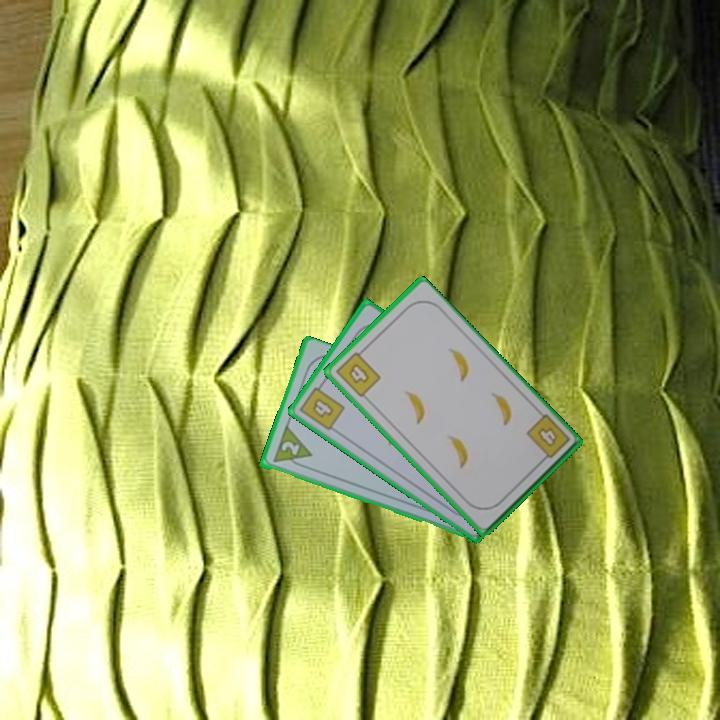2p: (269, 424, 314, 472)
4b: (296, 378, 348, 433), (332, 345, 384, 400), (522, 411, 573, 466)
